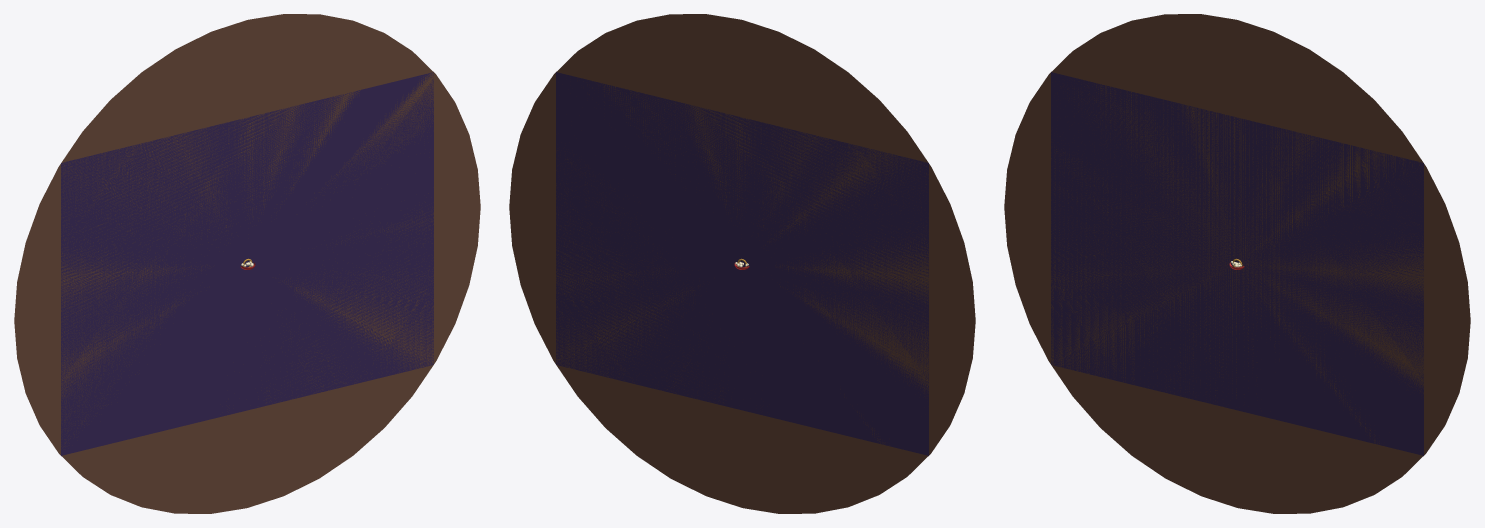
The model's file is ending.glb.
3 views of the same model, side by side, from view 1: azimuth 30°, elevation 25°; view 2: azimuth 150°, elevation 25°; view 3: azimuth 330°, elevation 25° (orthographic).
Visible parts, largest first — view 1: portrait_back, portrait_floor; view 2: portrait_back, portrait_floor; view 3: portrait_back, portrait_floor.
Part boxes in pixels (x1,y1,x2,y2): portrait_back: (61, 72, 433, 455); portrait_floor: (14, 14, 480, 513); portrait_back: (556, 72, 928, 455); portrait_floor: (509, 14, 975, 513); portrait_back: (1051, 72, 1423, 455); portrait_floor: (1004, 14, 1470, 513).
Bounding box in the file's own units: 8 × 8 × 0.2364.
